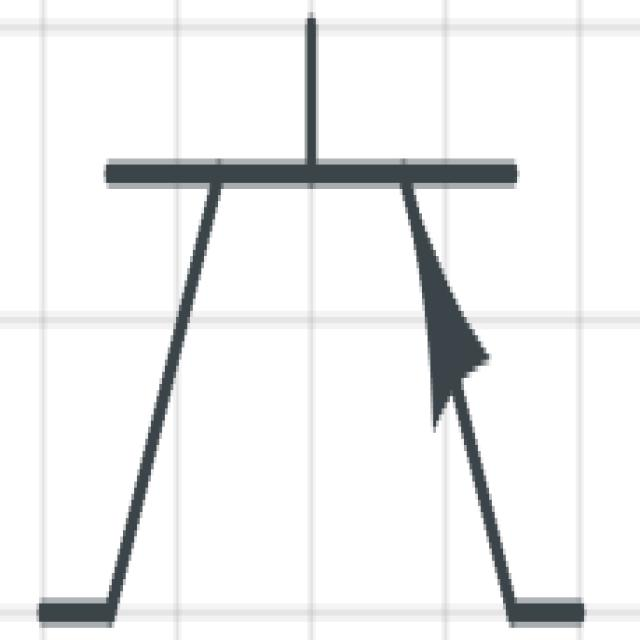pnp_bjt: (28, 18, 592, 640)
